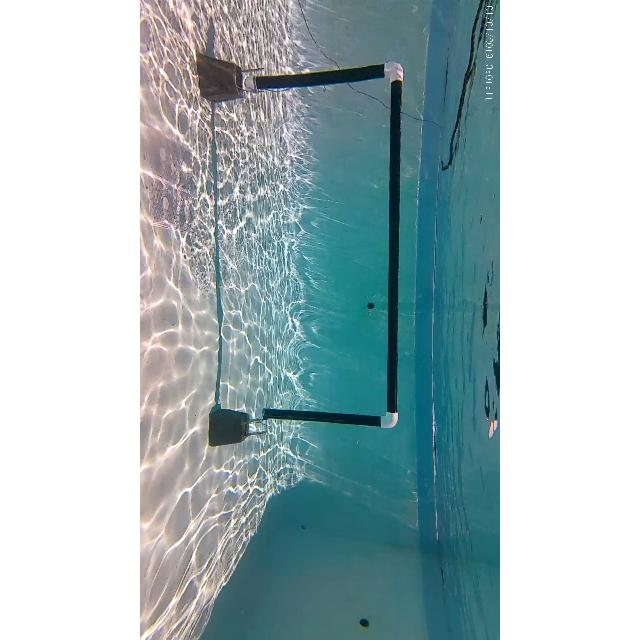prequal gate: (245, 60, 403, 430)
prequal gate leg l: (239, 55, 405, 89)
prequal gate leg r: (248, 400, 402, 432)
